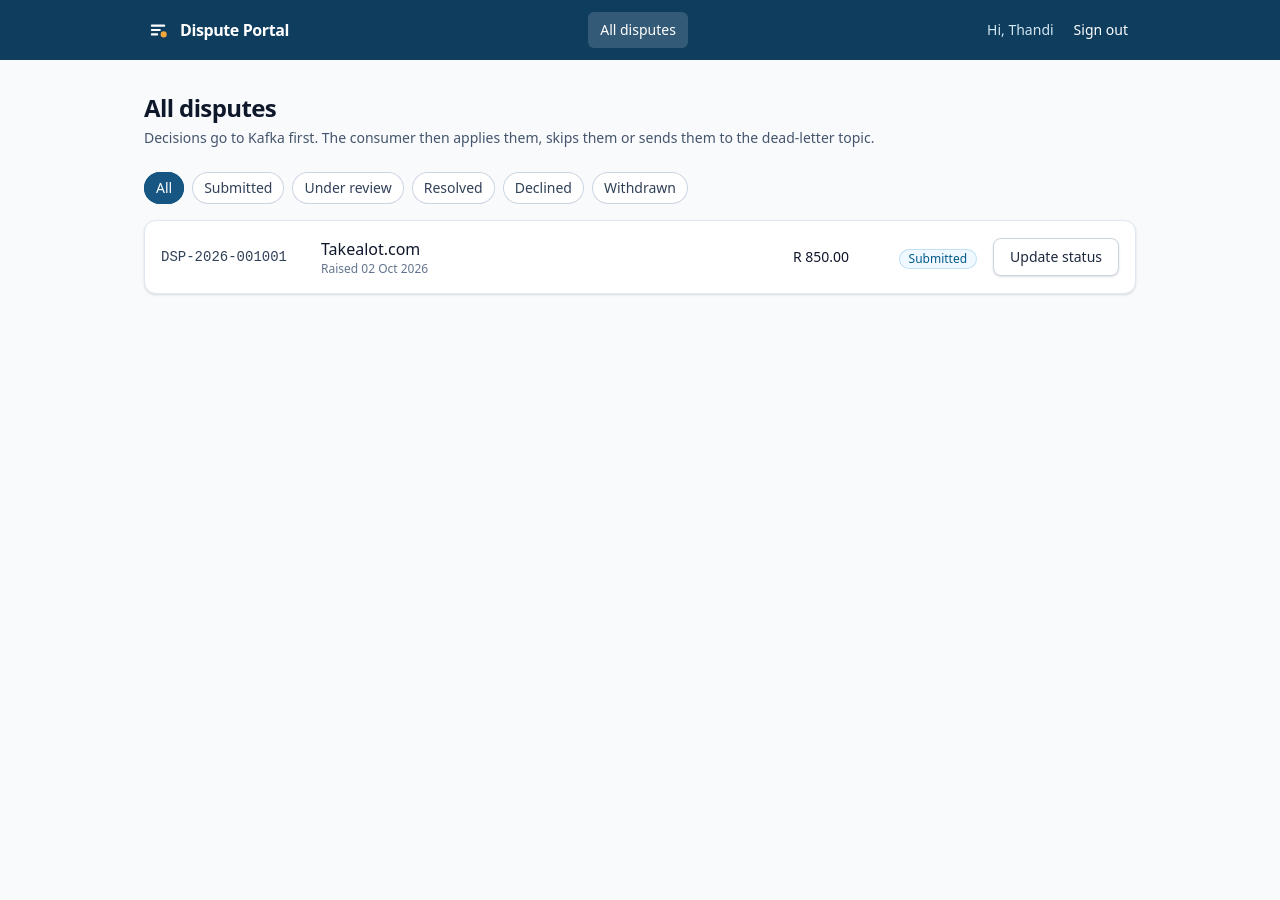
Test: AgentDisputesPage › sends the decision and note, then says where it went
Click the button "Update status".
click(1056, 257)  # box top-left (993, 238), bottom-right (1119, 276)
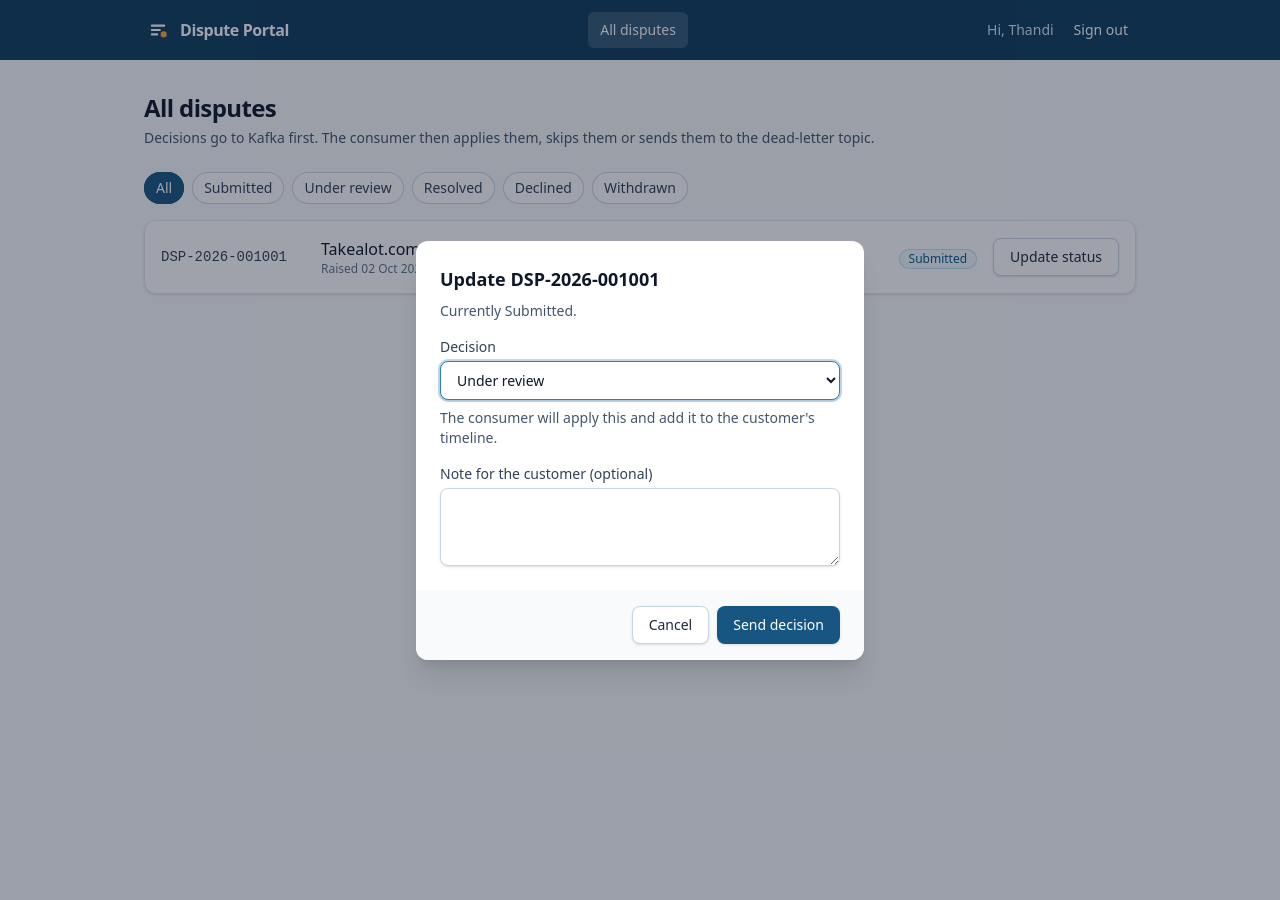
Type "Looking into it." into the text box labelled "Note for the customer (optional)".
click(640, 526); type("Looking into it.")  # box top-left (440, 488), bottom-right (840, 566)
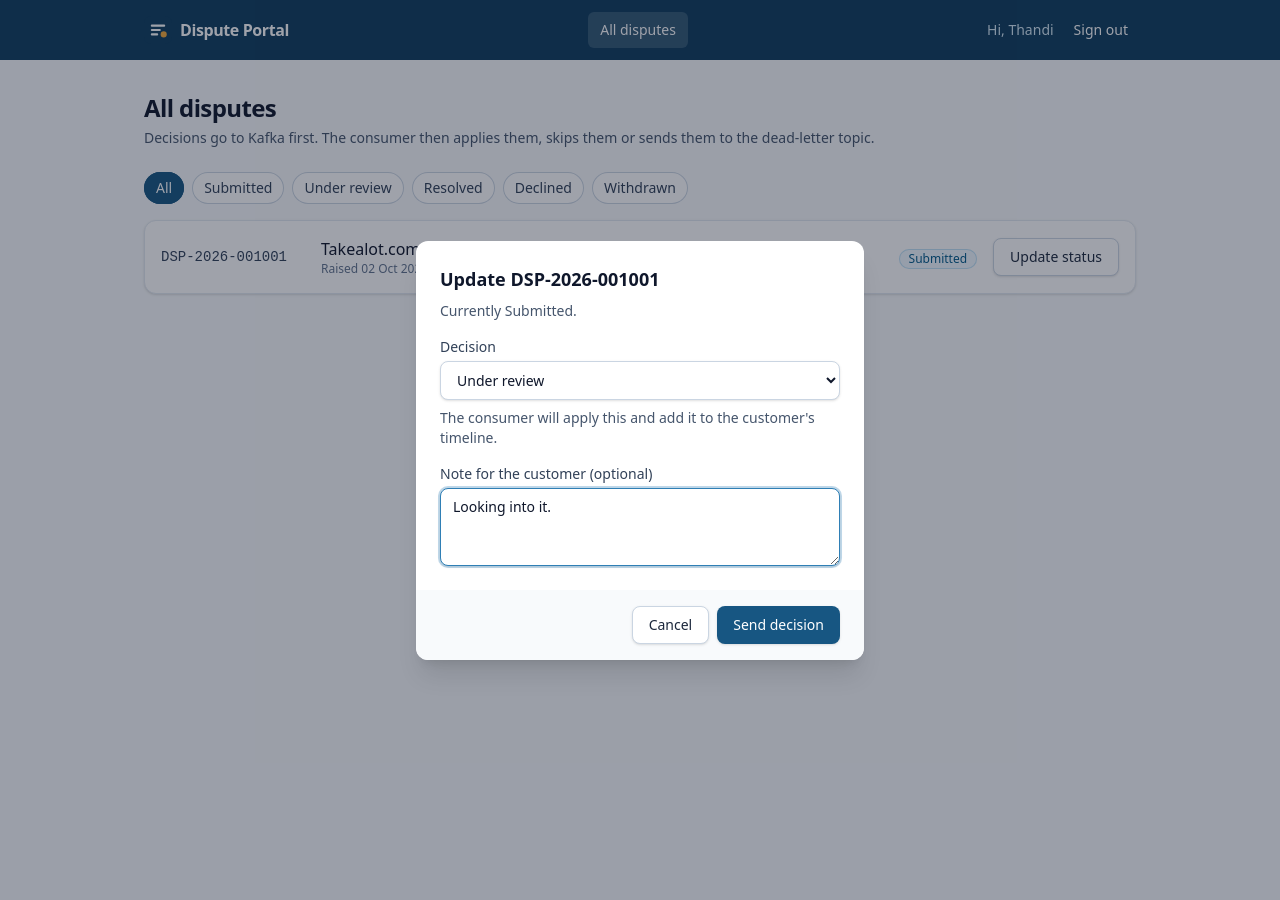
Click the button "Send decision".
click(779, 624)  # box top-left (717, 606), bottom-right (840, 644)
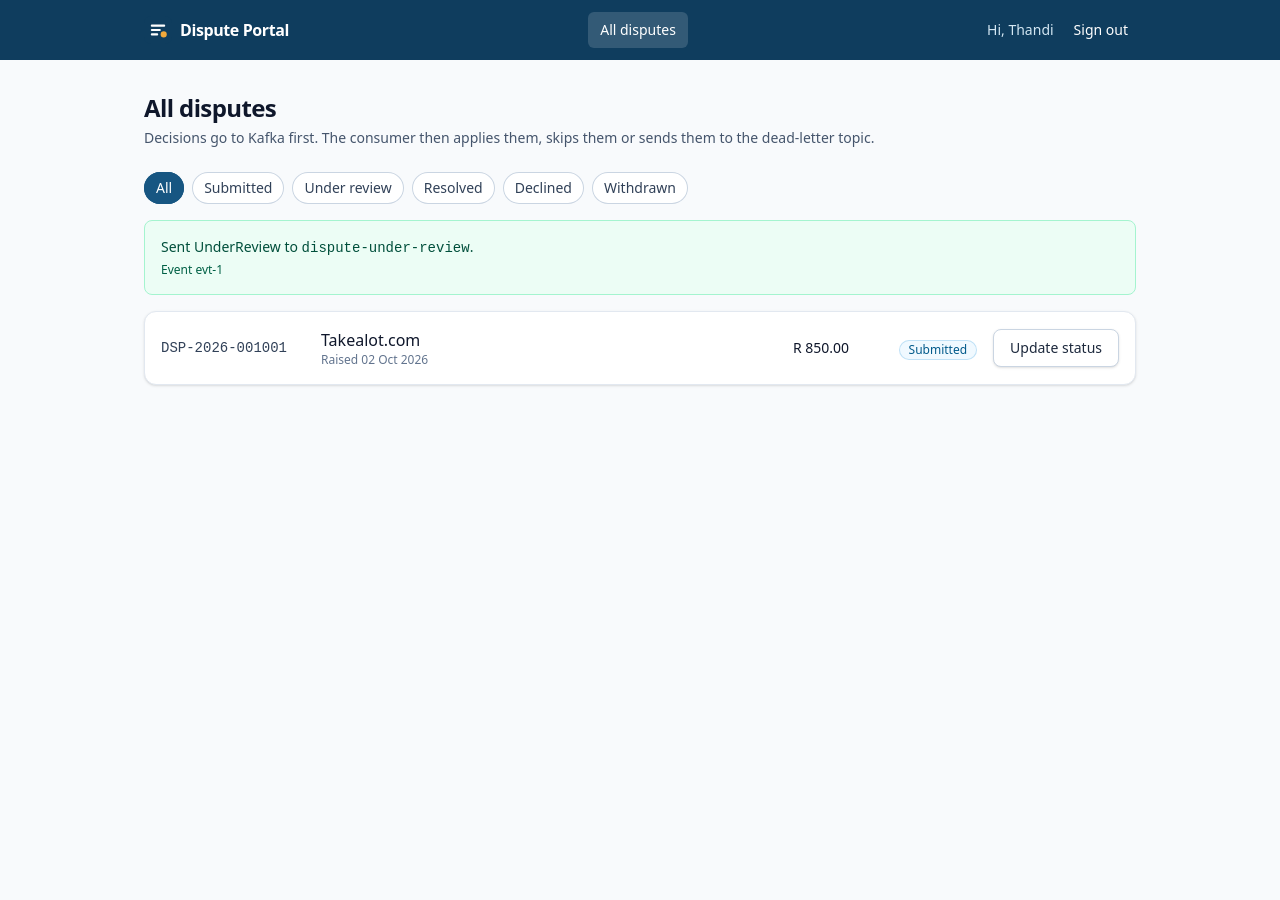
Check: the message shows "Sent UnderReview to dispute-under-review", box top-left (144, 220), bottom-right (1136, 295)
Check: the message shows "Event evt-1", box top-left (144, 220), bottom-right (1136, 295)
Check: the dialog is gone
